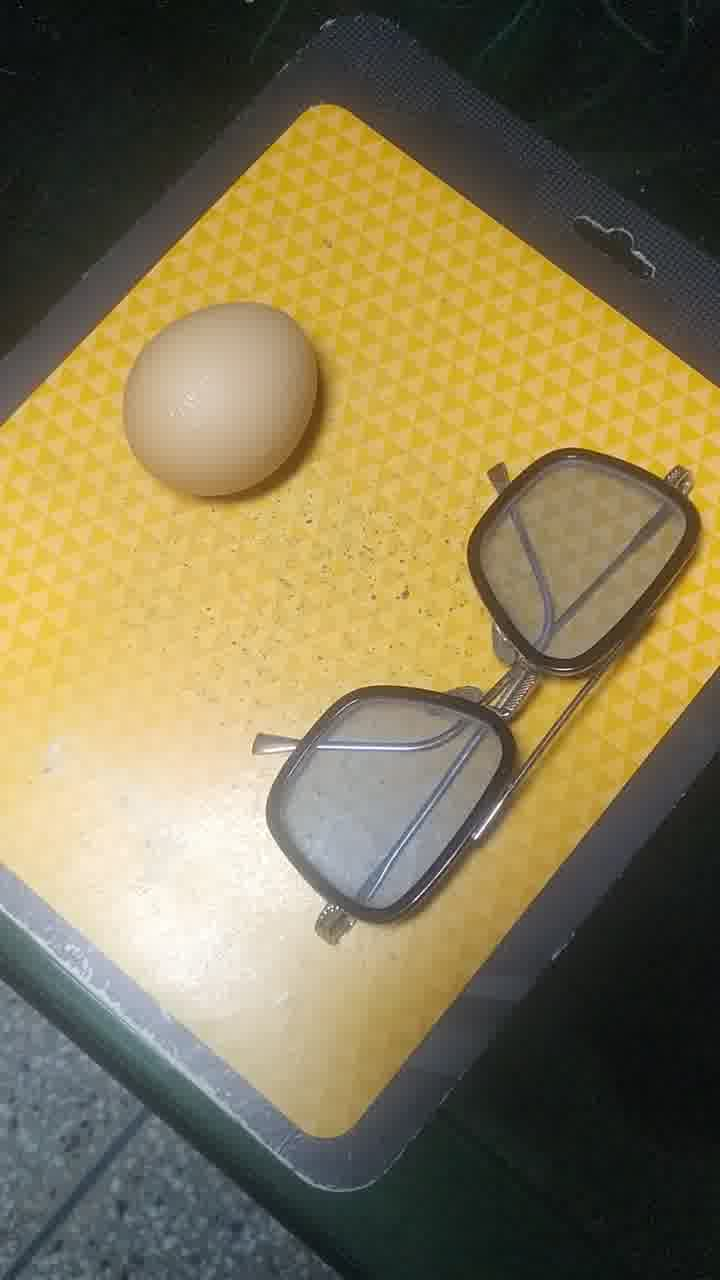egg: (123, 301, 326, 510)
sunglass: (177, 501, 720, 947)
